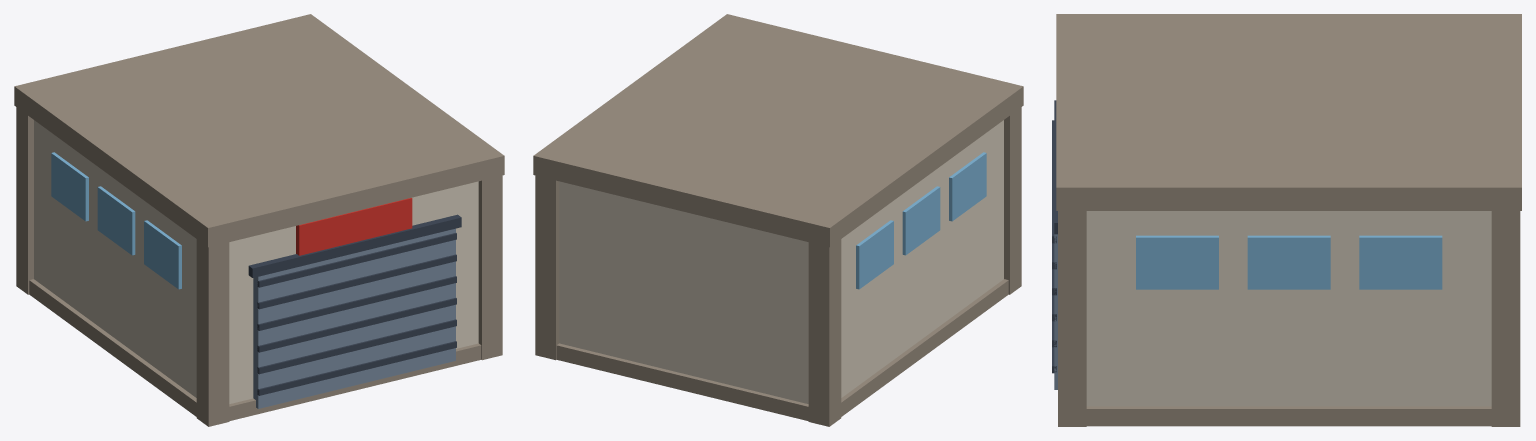
File: pitsGarageClosed.glb
3 renders of one model, left to right at view 1: azimuth 30°, elevation 25°; view 2: azimuth 150°, elevation 25°; view 3: azimuth 270°, elevation 25°, orthographic. The views are drawn at different scales.
Visible parts, largest first — view 1: pitsGarageClosed_concreteDark, pitsGarageClosed_concrete, pitsGarageClosed_steel, pitsGarageClosed_steelDark, pitsGarageClosed_glass, pitsGarageClosed_red; view 2: pitsGarageClosed_concreteDark, pitsGarageClosed_concrete, pitsGarageClosed_glass; view 3: pitsGarageClosed_concreteDark, pitsGarageClosed_concrete, pitsGarageClosed_glass, pitsGarageClosed_steelDark, pitsGarageClosed_steel.
Boxes of the visible parts, x1,y1,x2,y2 form: pitsGarageClosed_concreteDark: [14, 14, 504, 426]; pitsGarageClosed_concrete: [34, 120, 478, 403]; pitsGarageClosed_steel: [253, 228, 455, 408]; pitsGarageClosed_steelDark: [248, 214, 461, 395]; pitsGarageClosed_glass: [51, 152, 181, 289]; pitsGarageClosed_red: [296, 198, 412, 255]; pitsGarageClosed_concreteDark: [533, 14, 1023, 426]; pitsGarageClosed_concrete: [559, 120, 1003, 403]; pitsGarageClosed_glass: [856, 152, 986, 289]; pitsGarageClosed_concreteDark: [1056, 14, 1521, 426]; pitsGarageClosed_concrete: [1086, 211, 1491, 406]; pitsGarageClosed_glass: [1136, 235, 1442, 289]; pitsGarageClosed_steelDark: [1052, 100, 1057, 373]; pitsGarageClosed_steel: [1054, 234, 1057, 389].
Size of the model in its own units: 12.9 by 8.3 by 14.74.
